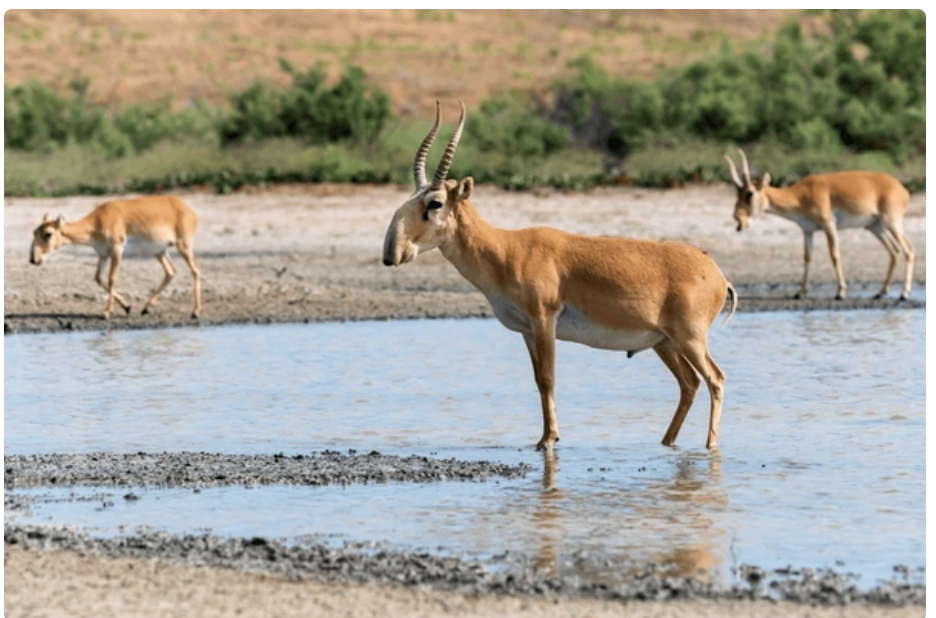saiga: (380, 90, 731, 457)
